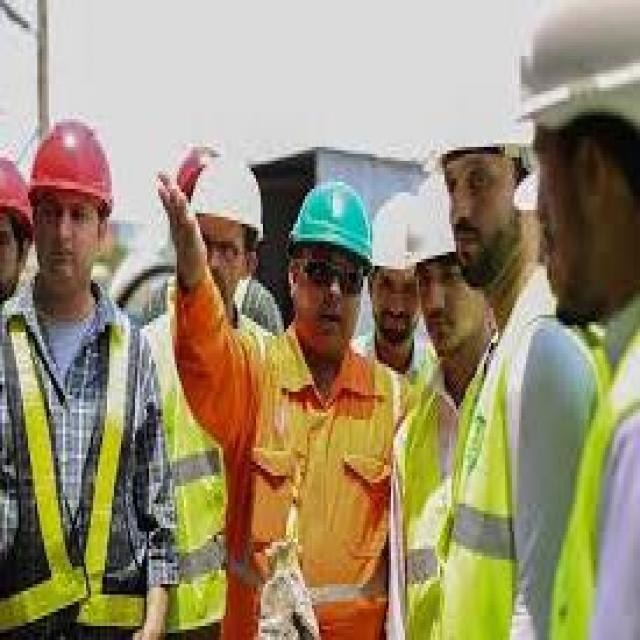reflective_jacket: (0, 287, 144, 633), (139, 311, 235, 632), (558, 289, 639, 636)
safety_helmet: (509, 0, 639, 147), (426, 66, 530, 167), (23, 112, 120, 217), (284, 171, 375, 269), (188, 157, 267, 241), (370, 185, 433, 276), (0, 147, 39, 245)
